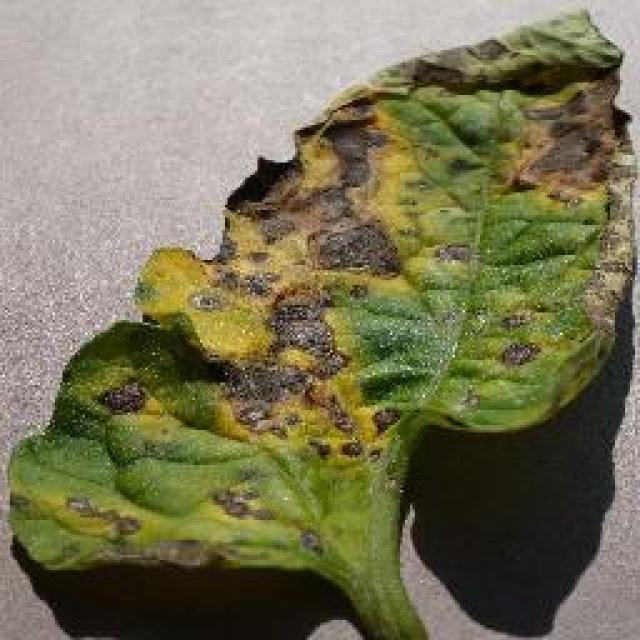Tomato Early blight leaf: (5, 15, 640, 577)
